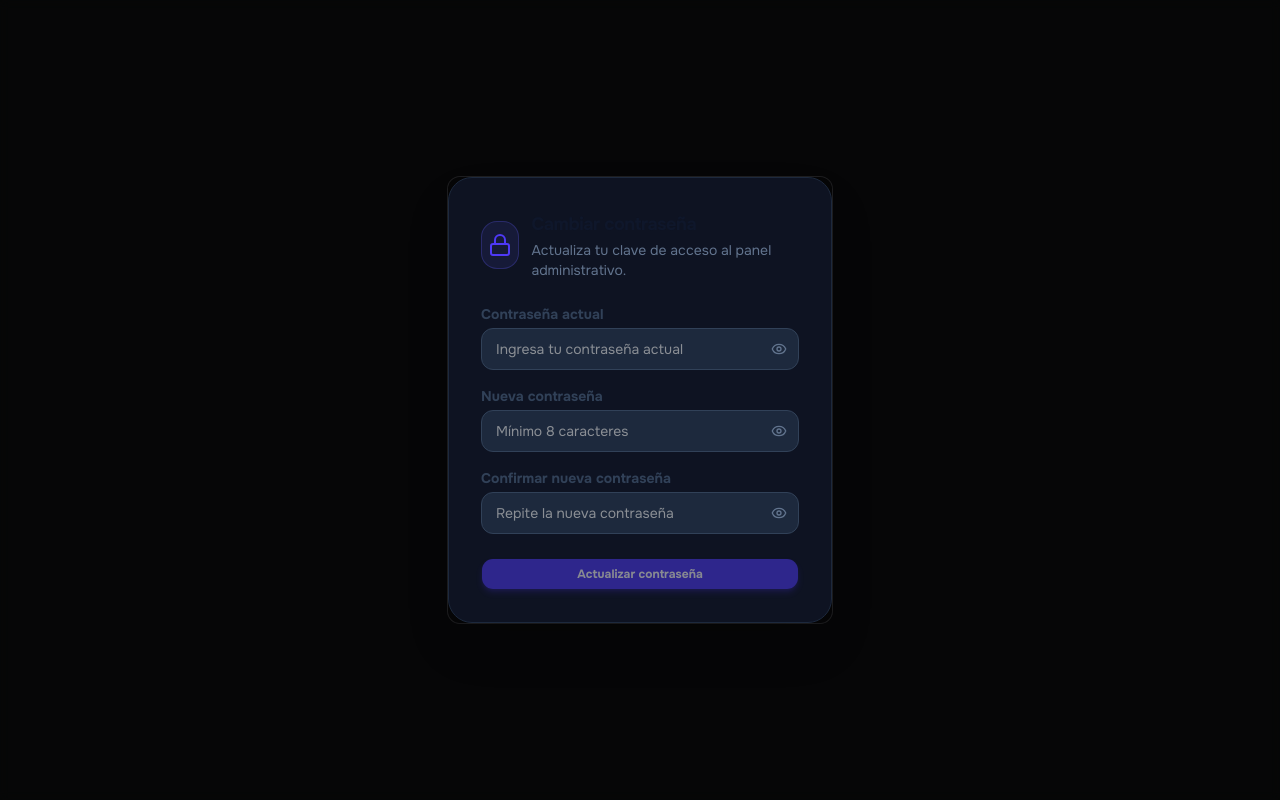
ChangePasswordScreen (TDD) › shows Spanish error inline once and no toast when current password is incorrect
This screenshot has width=1280, height=800.
In the password field labelled "Contraseña actual": (640, 349) [481, 328, 799, 370], type "wrong-current-pass"
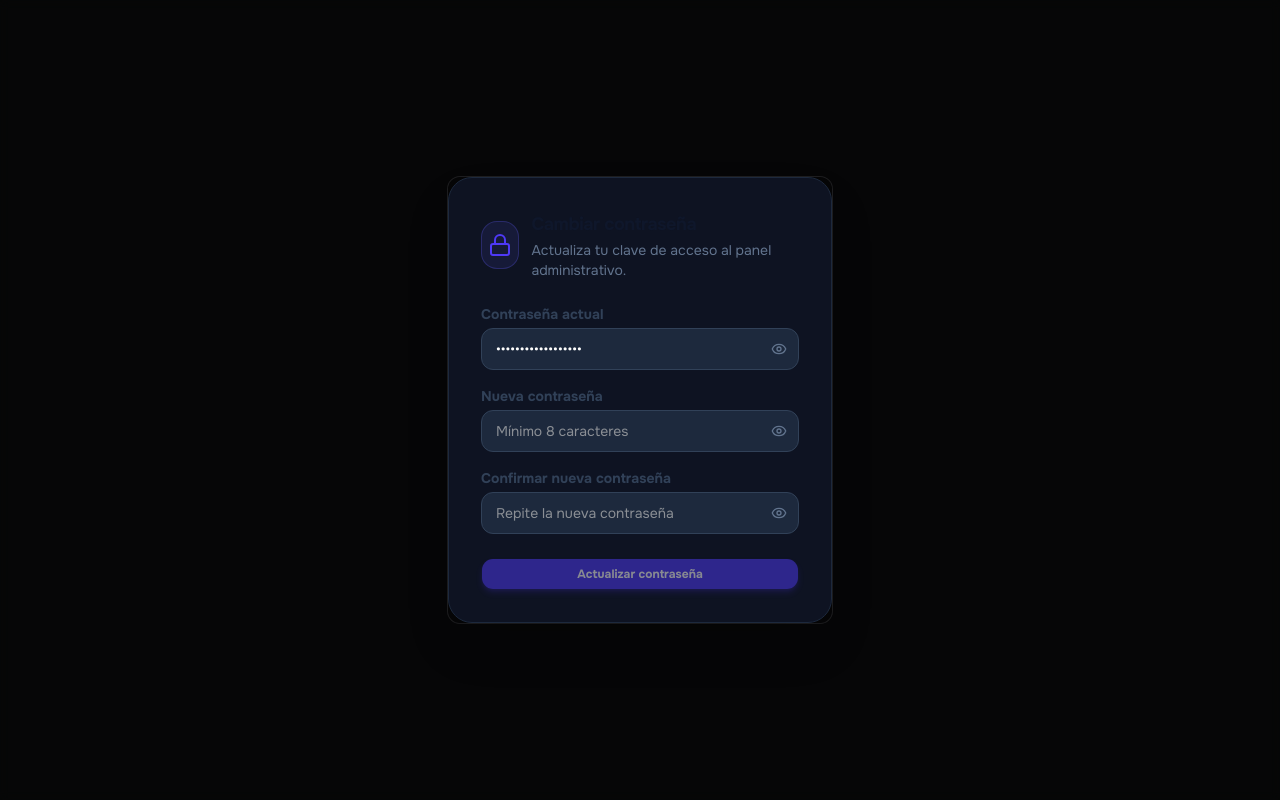
In the password field labelled "Nueva contraseña": (640, 431) [481, 410, 799, 452], type "brand-new-pass-123"
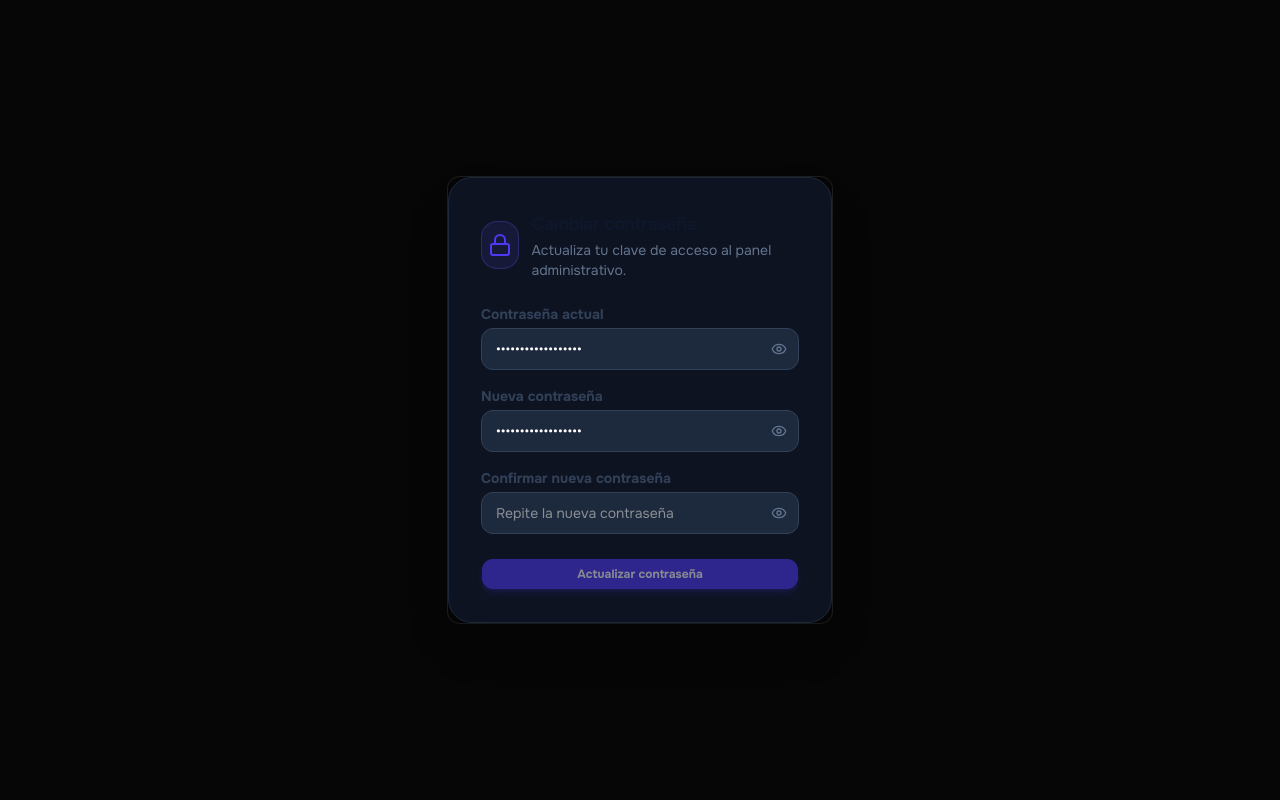
In the password field labelled "Confirmar nueva contraseña": (640, 513) [481, 492, 799, 534], type "brand-new-pass-123"
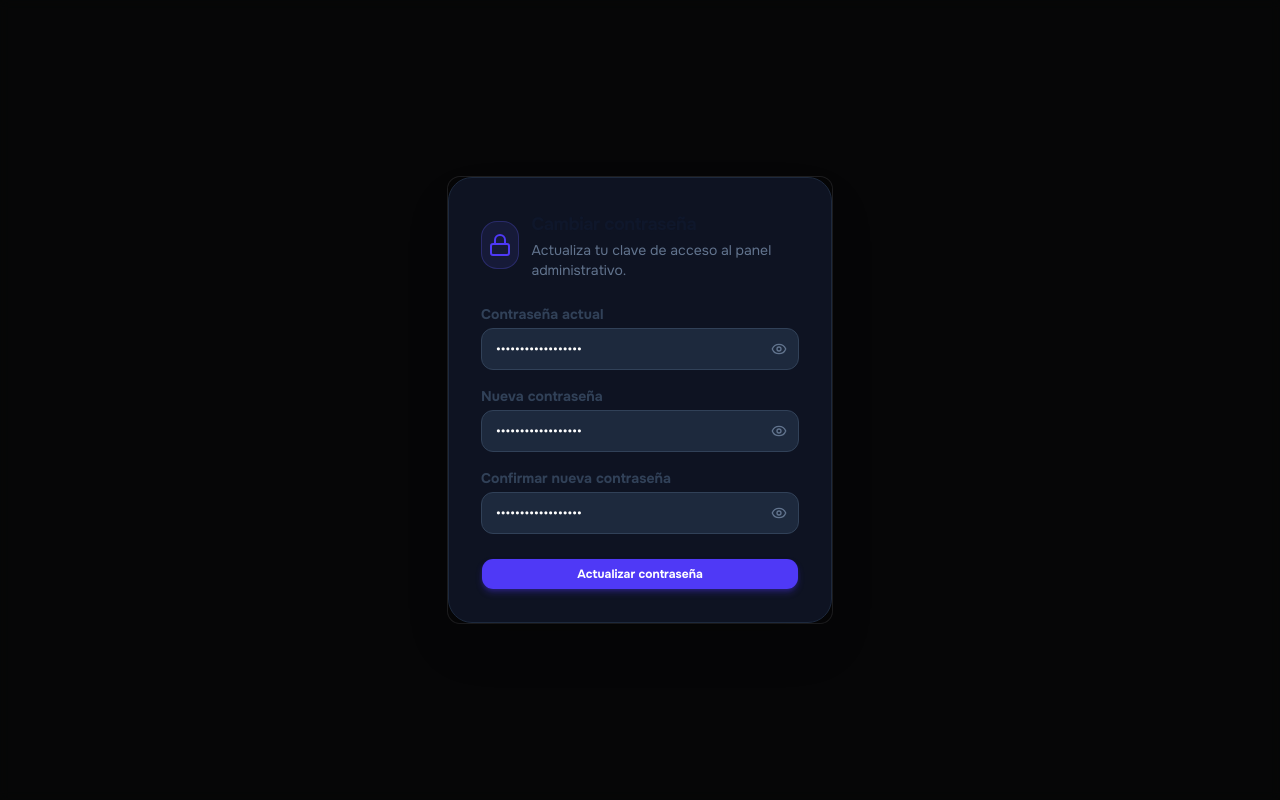
Click the button "Actualizar contraseña": (640, 574) [481, 558, 799, 590]
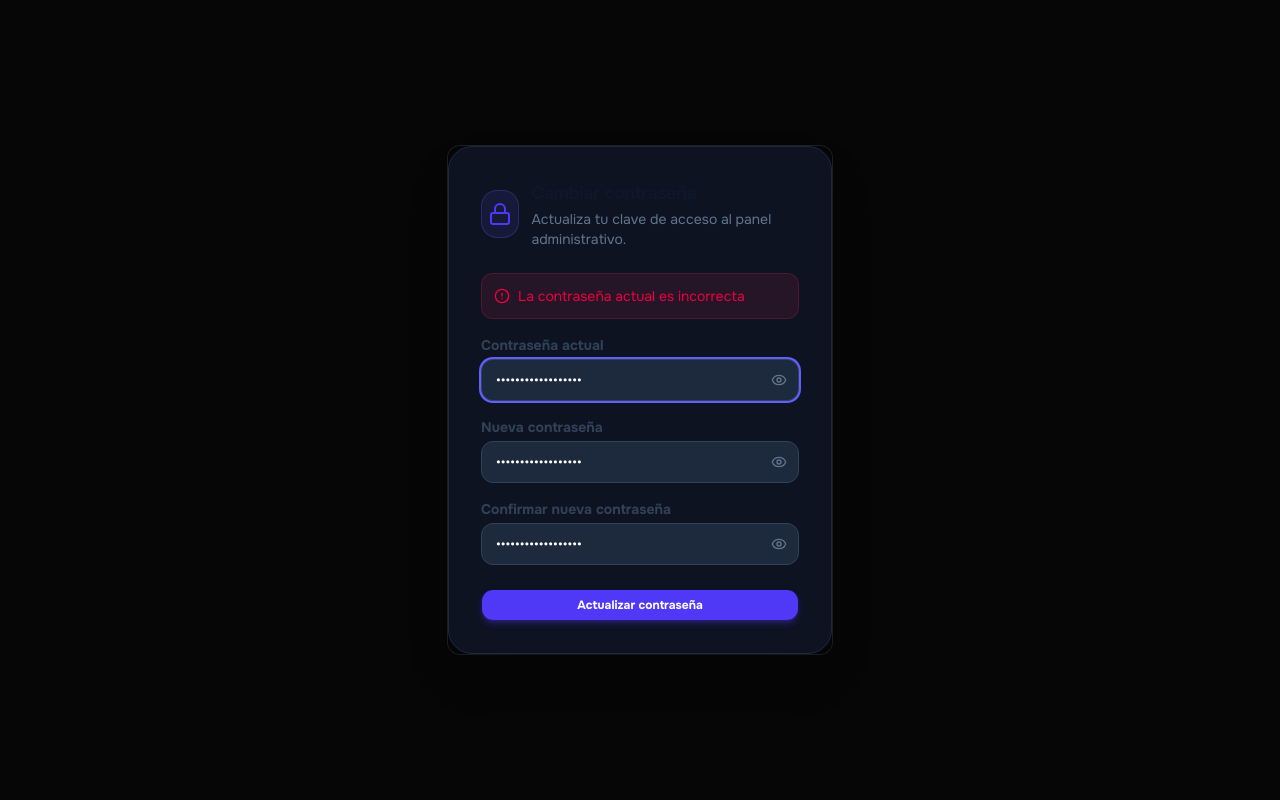
Expected: the text "La contraseña actual es incorrecta" is shown, [518, 286, 745, 306]
